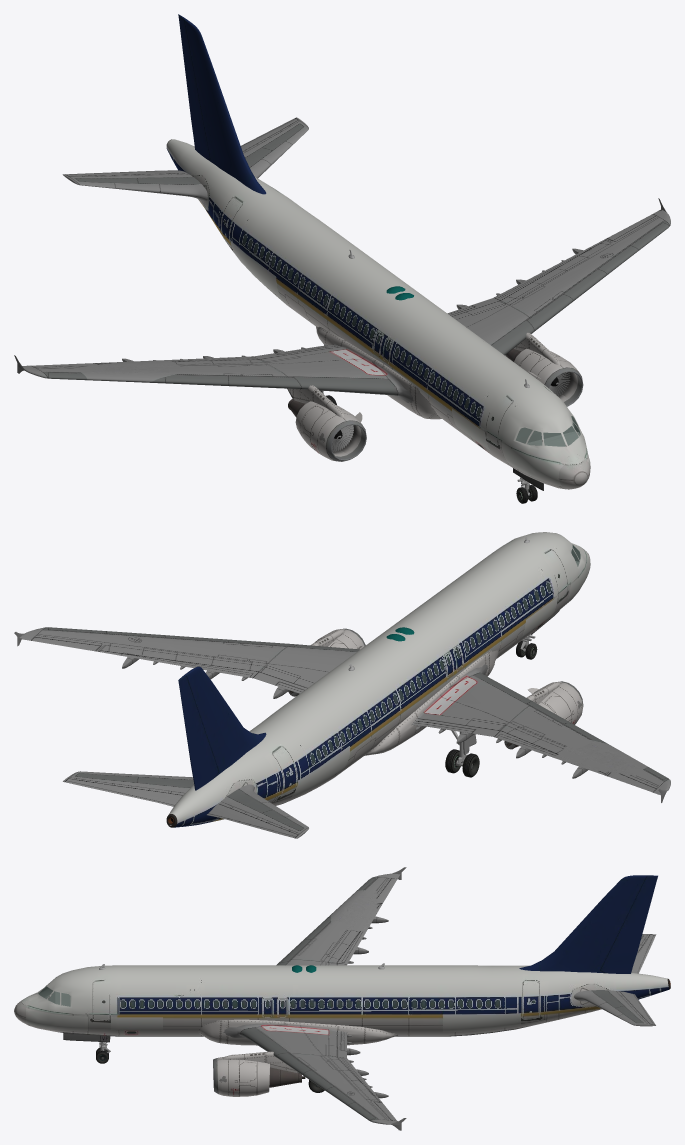
The picture shows the model from 3 angles, top to bottom: view 1: azimuth 30°, elevation 25°; view 2: azimuth 150°, elevation 25°; view 3: azimuth 270°, elevation 25°; orthographic projection. The views are drawn at different scales.
Visible parts, largest first — view 1: Cylinder03-FACES (×2), Circle10-FACES, Circle09-FACES, Cylinder04-FACES, Cylinder207-FACES, Cylinder197-FACES, Cylinder05-FACES, Cylinder01-FACES, Line09-FACES, Object01-FACES; view 2: Cylinder03-FACES, Circle10-FACES, Circle09-FACES, Cylinder04-FACES, Cylinder05-FACES, Cylinder197-FACES, Line09-FACES, Cylinder207-FACES, Cylinder01-FACES; view 3: Cylinder03-FACES, Cylinder04-FACES, Circle09-FACES, Circle10-FACES, Cylinder01-FACES, Line09-FACES, Cylinder05-FACES, ChamferBox01-FACES, Cylinder02-FACES, Cylinder197-FACES.
Part boxes in pixels (x1,y1,x2,y2): Cylinder03-FACES (×2): [166, 139, 590, 489]; Circle10-FACES: [22, 344, 413, 403]; Circle09-FACES: [447, 209, 670, 355]; Cylinder04-FACES: [178, 14, 266, 194]; Cylinder207-FACES: [295, 401, 366, 461]; Cylinder197-FACES: [62, 170, 207, 201]; Cylinder05-FACES: [240, 117, 308, 178]; Cylinder01-FACES: [514, 348, 583, 406]; Line09-FACES: [316, 326, 441, 419]; Object01-FACES: [516, 416, 580, 458]; Cylinder03-FACES: [168, 532, 590, 827]; Circle10-FACES: [411, 664, 670, 795]; Circle09-FACES: [19, 627, 359, 693]; Cylinder04-FACES: [178, 666, 266, 790]; Cylinder05-FACES: [63, 771, 193, 806]; Cylinder197-FACES: [207, 784, 308, 838]; Line09-FACES: [364, 649, 498, 755]; Cylinder207-FACES: [533, 681, 583, 724]; Cylinder01-FACES: [314, 628, 365, 649]; Cylinder03-FACES: [14, 965, 668, 1036]; Cylinder04-FACES: [519, 875, 657, 973]; Circle09-FACES: [223, 1023, 397, 1124]; Circle10-FACES: [276, 873, 400, 965]; Cylinder01-FACES: [213, 1057, 269, 1096]; Line09-FACES: [198, 1019, 397, 1045]; Cylinder05-FACES: [574, 990, 655, 1026]; ChamferBox01-FACES: [222, 1051, 299, 1073]; Cylinder02-FACES: [269, 1067, 301, 1087]; Cylinder197-FACES: [631, 934, 656, 973].
Size of the model in its own units: 33.92 by 11.71 by 37.56.
27 materials, 18 textured.
